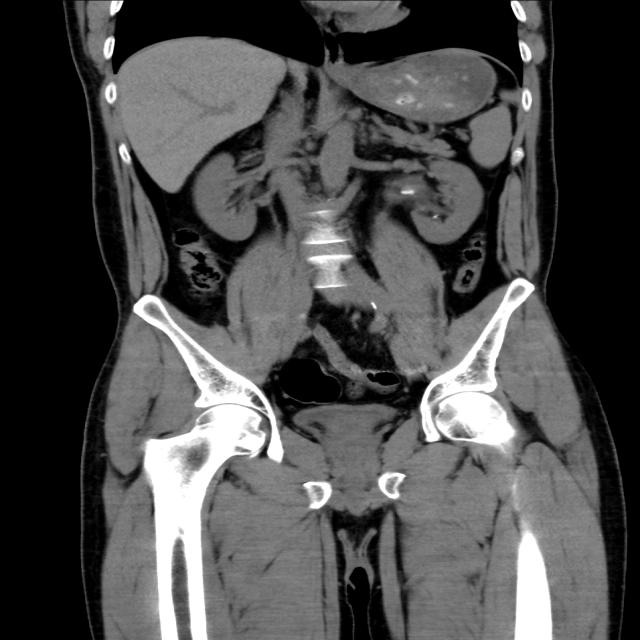kidneystone: (394, 188, 426, 196)
